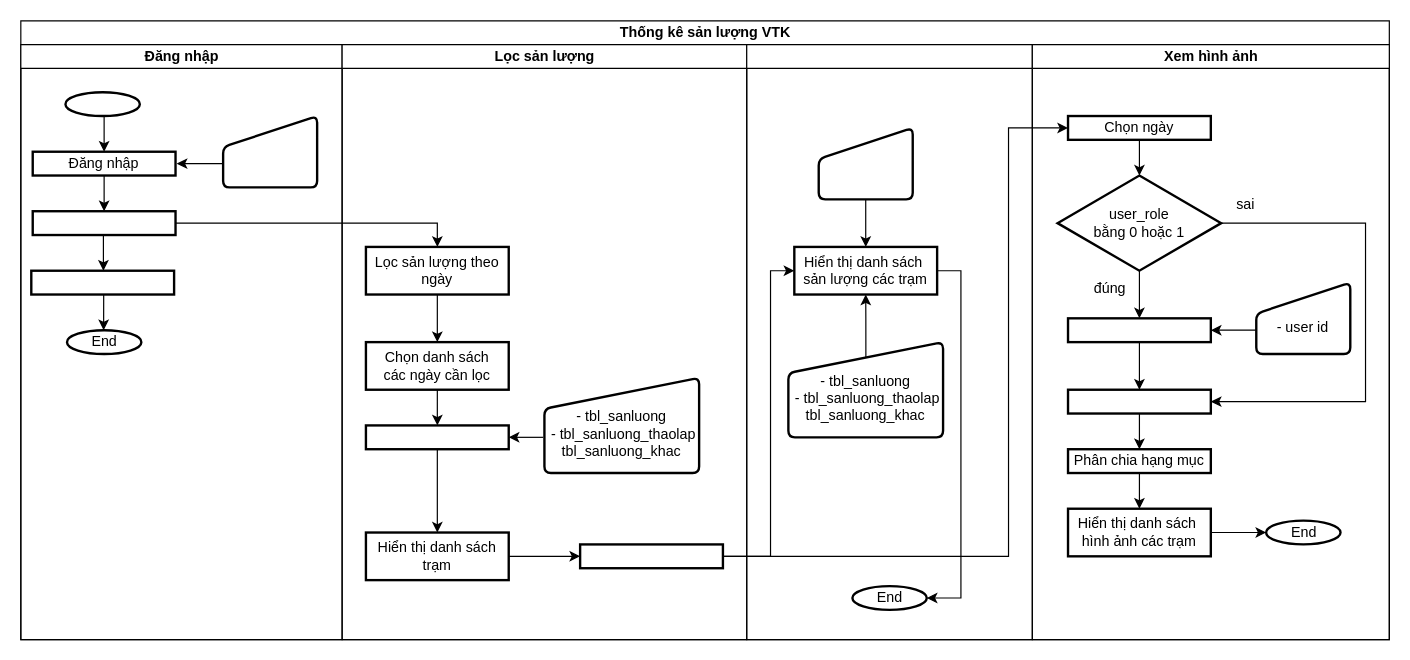
Some shapes in this 1410 by 660 pixel diagram are drawn without their labels. Each missing label, with the box of its shape:
- Mã trạm: (817, 126, 913, 200)
- Tài khoản - Mật khẩu: (221, 114, 318, 188)
Begin: (64, 90, 140, 117)
Chọn trạm: (578, 543, 724, 569)
Lấy dữ liệu: (1066, 388, 1211, 414)
Lọc các hình ảnh: (1066, 317, 1211, 343)
Phân quyền: (31, 209, 176, 236)
Tính tổng sản lượng: (364, 424, 509, 450)
Xem chi tiết sản lượng: (746, 43, 1032, 640)
Đăng xuất: (30, 269, 175, 295)
